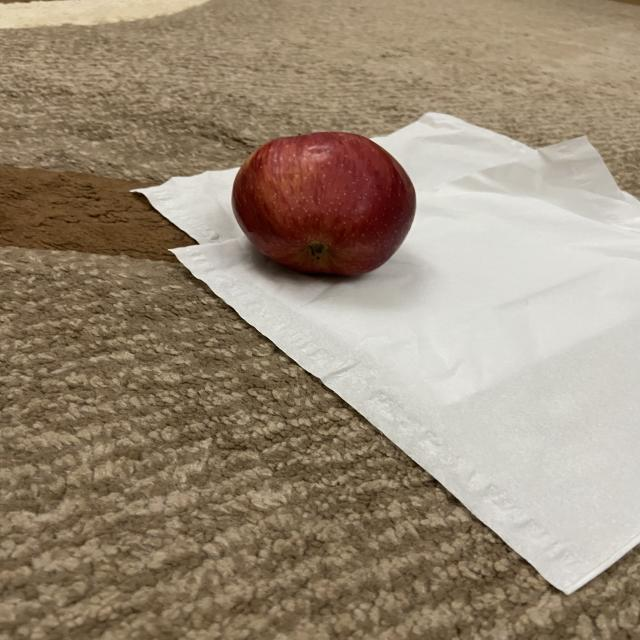apple: (230, 128, 418, 280)
